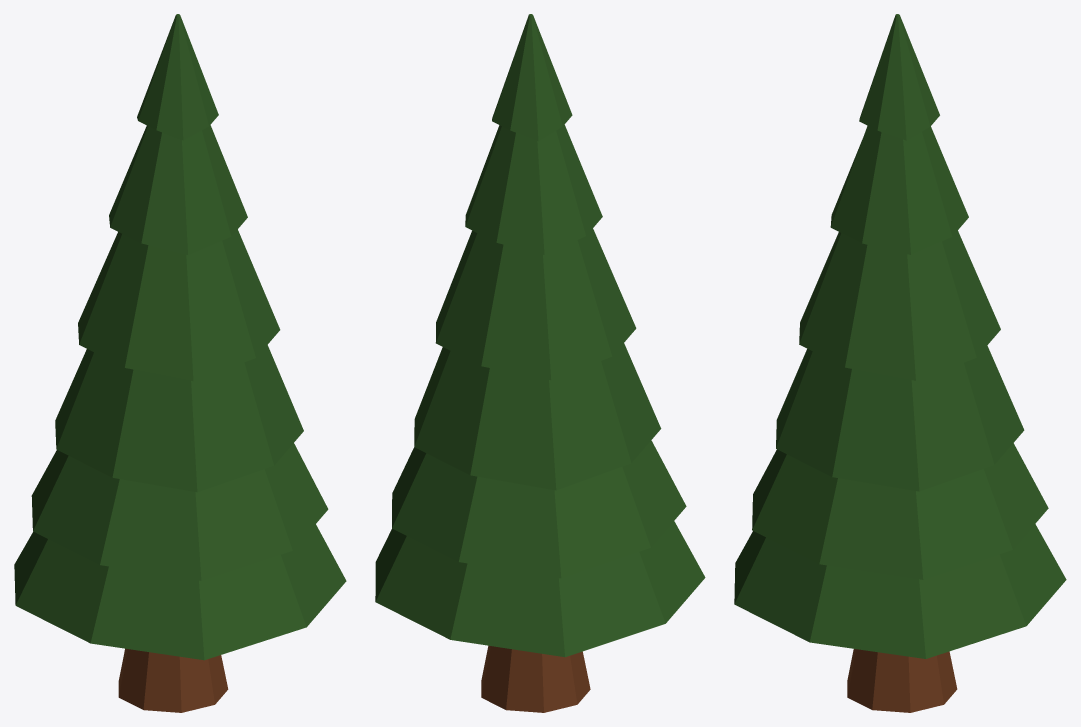
The model's file is low_poly_tree_1.glb.
3 renders of one model, left to right at view 1: azimuth 30°, elevation 25°; view 2: azimuth 150°, elevation 25°; view 3: azimuth 270°, elevation 25°, orthographic.
Visible parts, largest first — view 1: leaves, trunk; view 2: leaves, trunk; view 3: leaves, trunk.
Part boxes in pixels (box(x1,y1,x2,y2)): leaves: box(14, 14, 346, 660); trunk: box(118, 648, 228, 712); leaves: box(375, 14, 705, 657); trunk: box(481, 645, 590, 712); leaves: box(734, 14, 1066, 658); trunk: box(847, 649, 957, 712).
Bounding box in the file's own units: 2.31 × 5.12 × 2.28.
